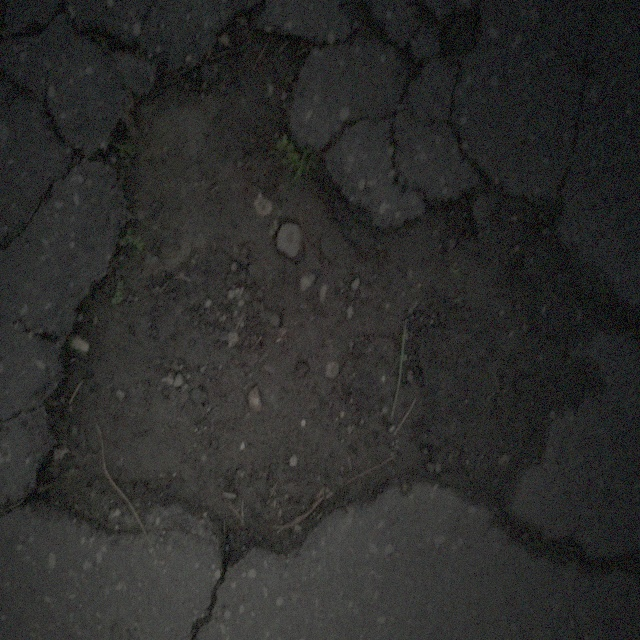pothole: (39, 22, 600, 575)
